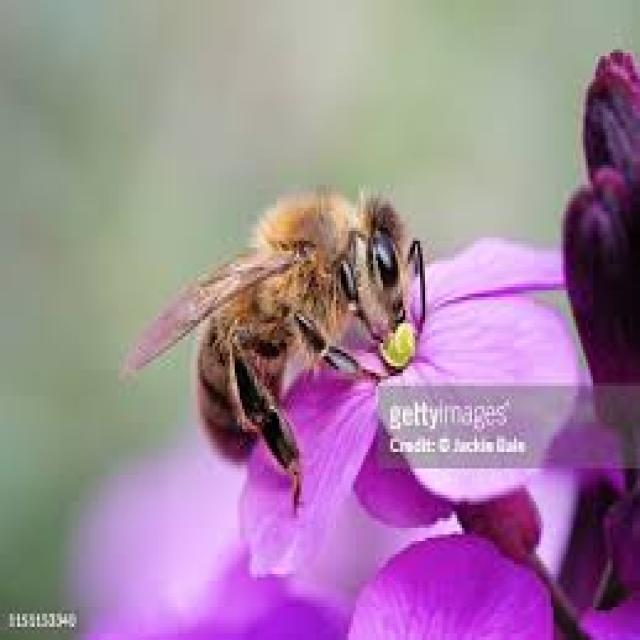Bees: (123, 185, 427, 513)
